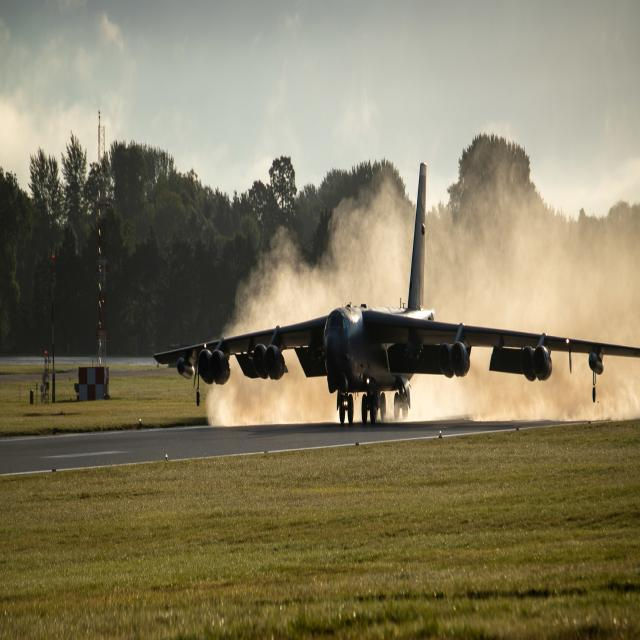MIL_Plane: (153, 66, 640, 136)
